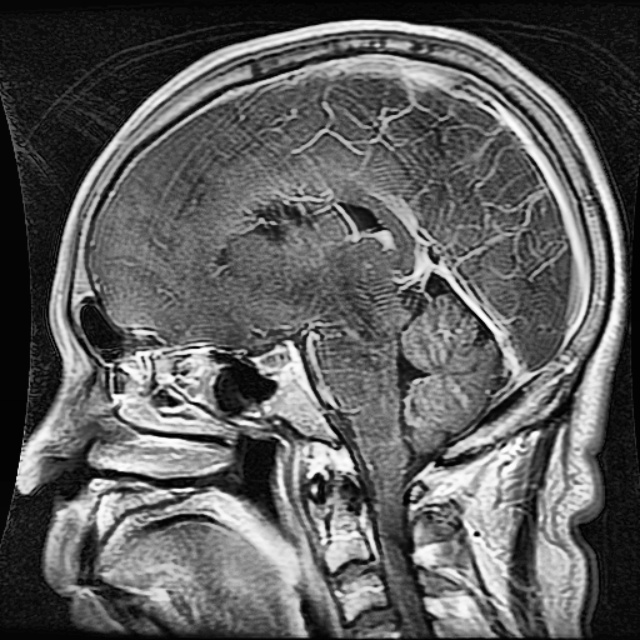Meningioma: (215, 193, 322, 275)
